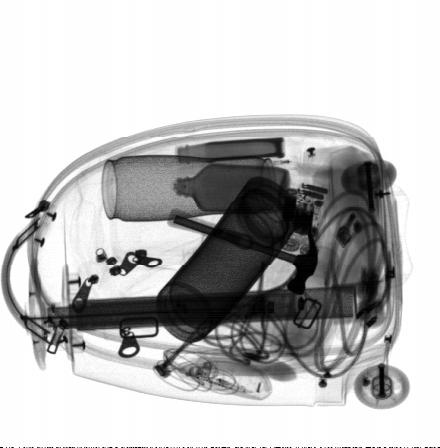Hammer: (166, 206, 318, 295)
